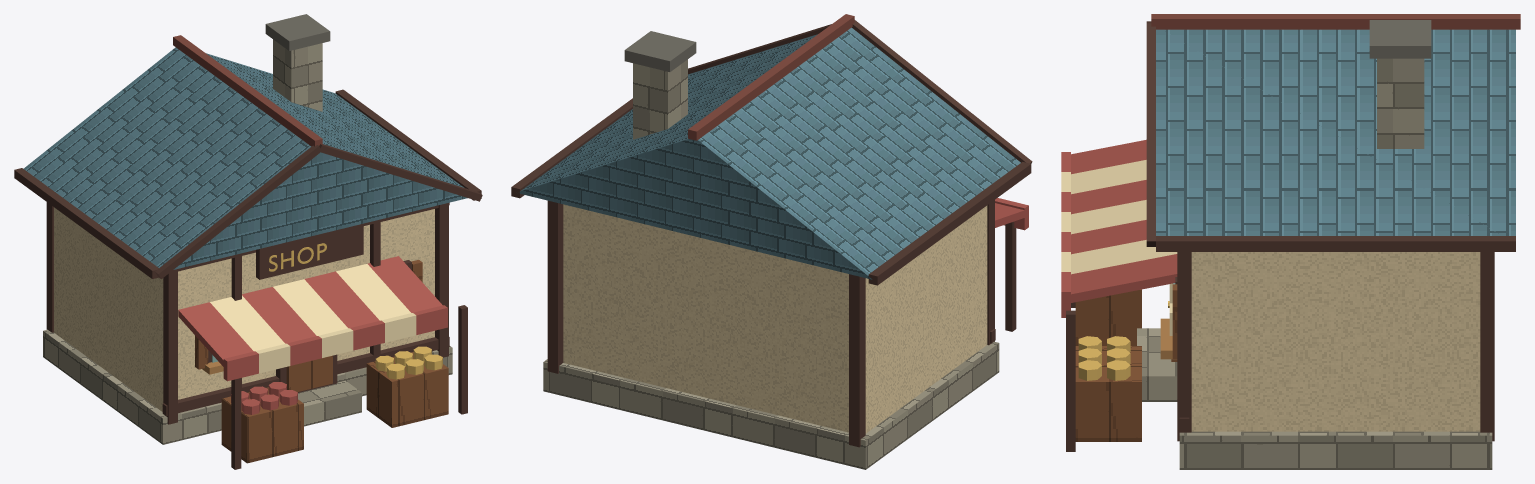
The model's file is shop.glb.
The picture shows the model from 3 angles, left to right: view 1: azimuth 30°, elevation 25°; view 2: azimuth 150°, elevation 25°; view 3: azimuth 270°, elevation 25°; orthographic projection. The views are drawn at different scales.
Parts seen in each view (by area): view 1: village_shop; view 2: village_shop; view 3: village_shop.
Part boxes in pixels (<box>): village_shop: <box>14,14,482,469</box>; village_shop: <box>511,14,1032,469</box>; village_shop: <box>1061,14,1520,469</box>.
Bounding box in the file's own units: 104 × 91.5 × 97.
Materials: 12 (4 with a texture image).
